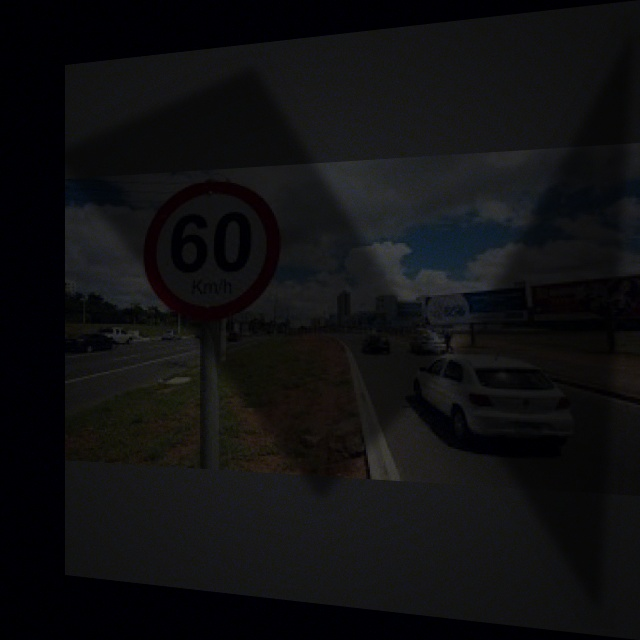Speed_Limit_60: (145, 173, 276, 320)
